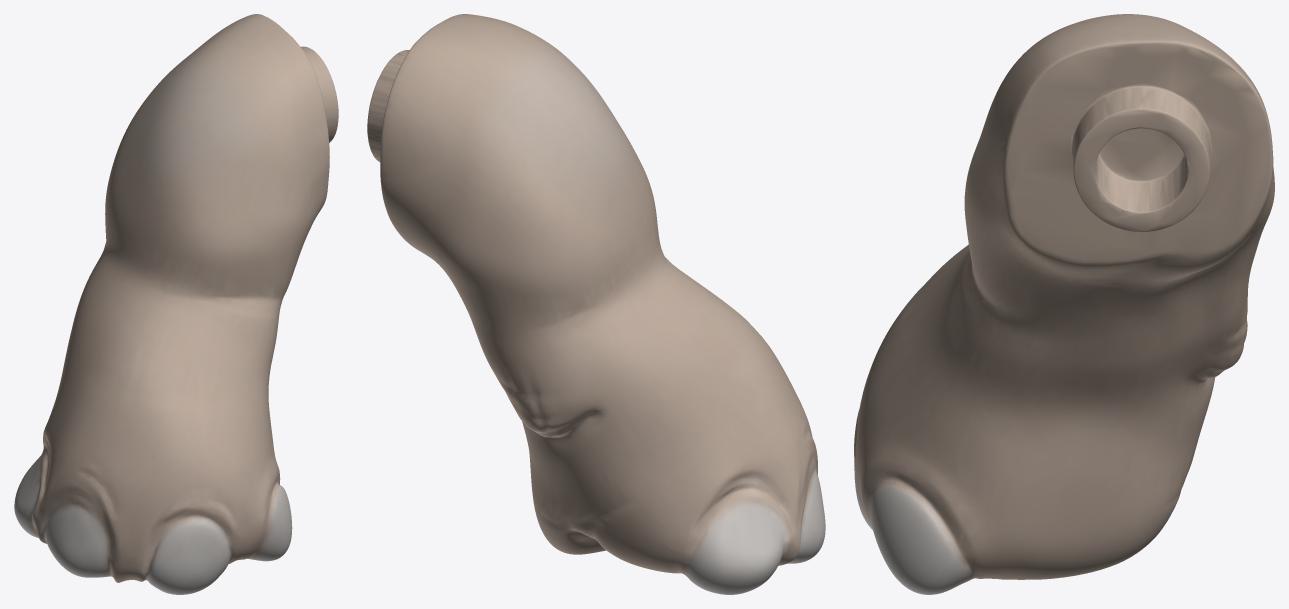
File: Bras_Elephant_rg.glb
3 renders of one model, left to right at view 1: azimuth 30°, elevation 25°; view 2: azimuth 150°, elevation 25°; view 3: azimuth 270°, elevation 25°, orthographic. The views are drawn at different scales.
Parts seen in each view (by area): view 1: Bras_Elephant_rg; view 2: Bras_Elephant_rg; view 3: Bras_Elephant_rg.
Boxes of the visible parts, box(x1,y1,x2,y2) form: Bras_Elephant_rg: box(14, 14, 338, 594); Bras_Elephant_rg: box(367, 14, 825, 594); Bras_Elephant_rg: box(854, 14, 1274, 594).
Size of the model in its own units: 3.05 by 4.27 by 2.64.
